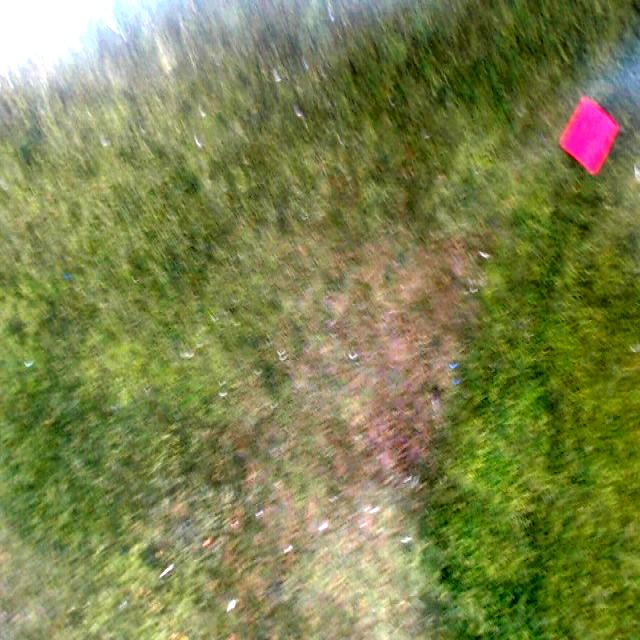red_square: (560, 97, 620, 176)
